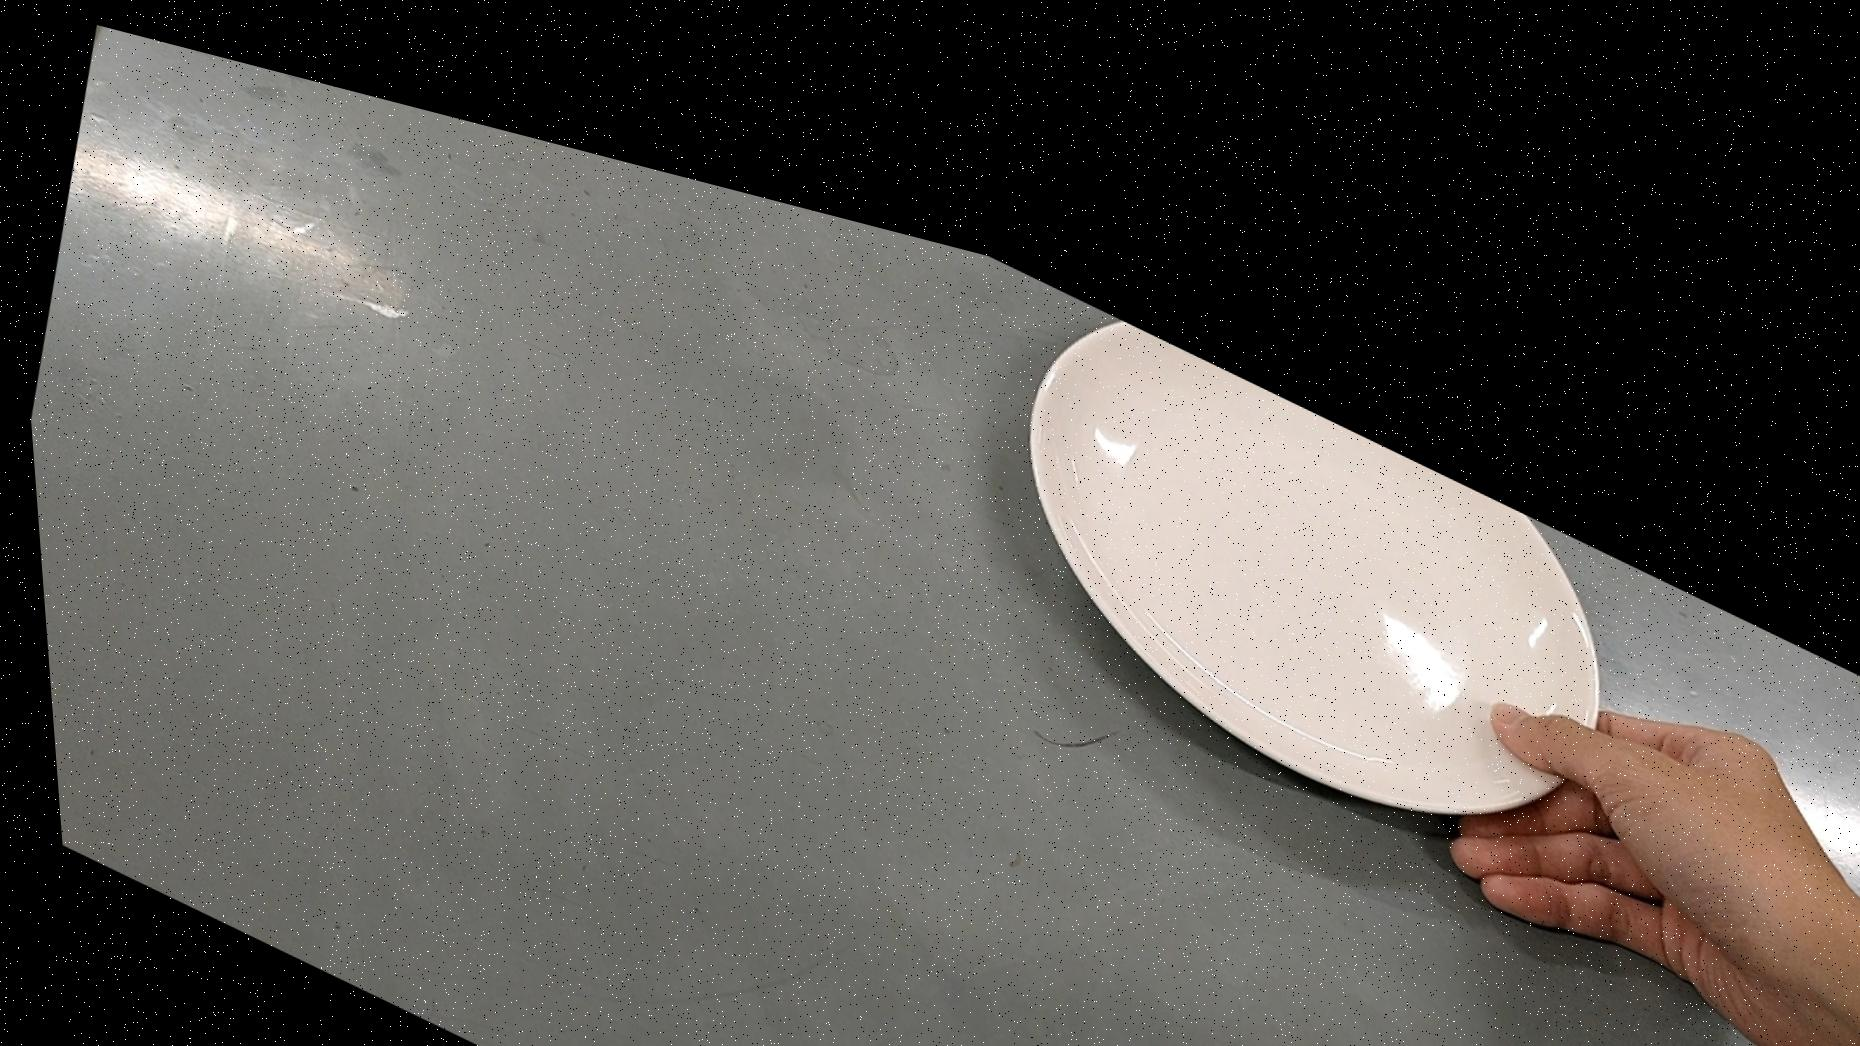plate: (974, 216, 1645, 844)
